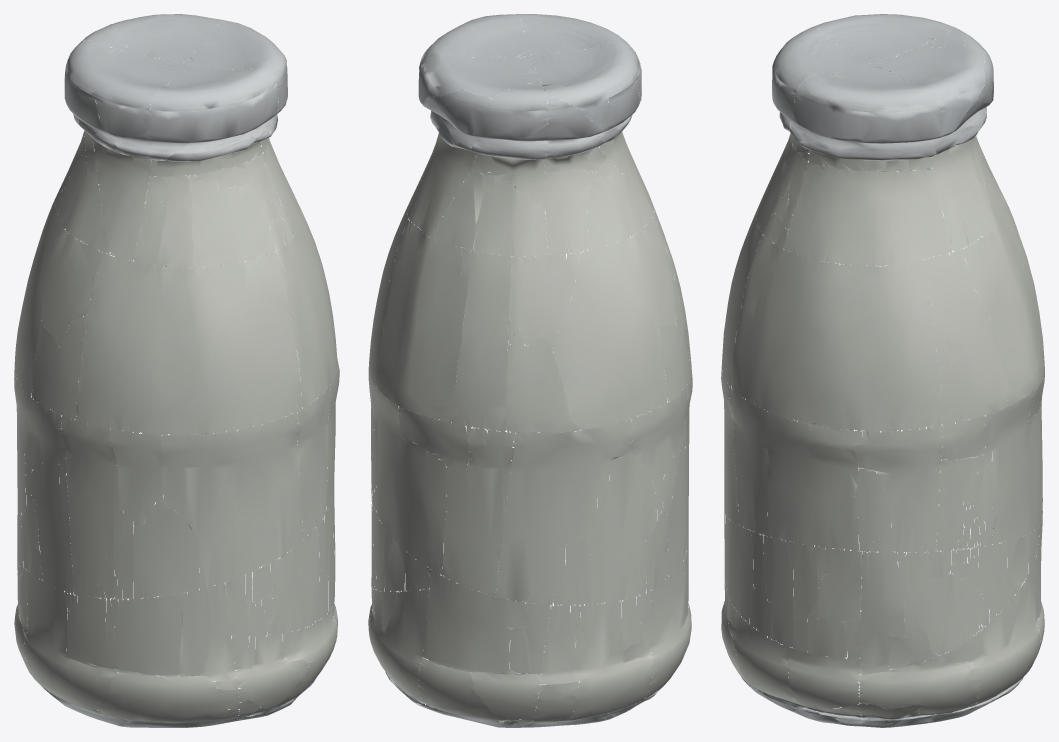
File: milk.glb
3 renders of one model, left to right at view 1: azimuth 30°, elevation 25°; view 2: azimuth 150°, elevation 25°; view 3: azimuth 270°, elevation 25°, orthographic.
Visible parts, largest first — view 1: tripo_node_b2cb48a0-70b6-4f1e-a6d8-c069f67cdd00; view 2: tripo_node_b2cb48a0-70b6-4f1e-a6d8-c069f67cdd00; view 3: tripo_node_b2cb48a0-70b6-4f1e-a6d8-c069f67cdd00.
Part boxes in pixels (bbox=[...]): tripo_node_b2cb48a0-70b6-4f1e-a6d8-c069f67cdd00: bbox=[14, 14, 339, 727]; tripo_node_b2cb48a0-70b6-4f1e-a6d8-c069f67cdd00: bbox=[368, 14, 692, 727]; tripo_node_b2cb48a0-70b6-4f1e-a6d8-c069f67cdd00: bbox=[721, 14, 1044, 727].
Bounding box in the file's own units: 0.4665 × 0.9814 × 0.4637.
Materials: 1 (1 with a texture image).
